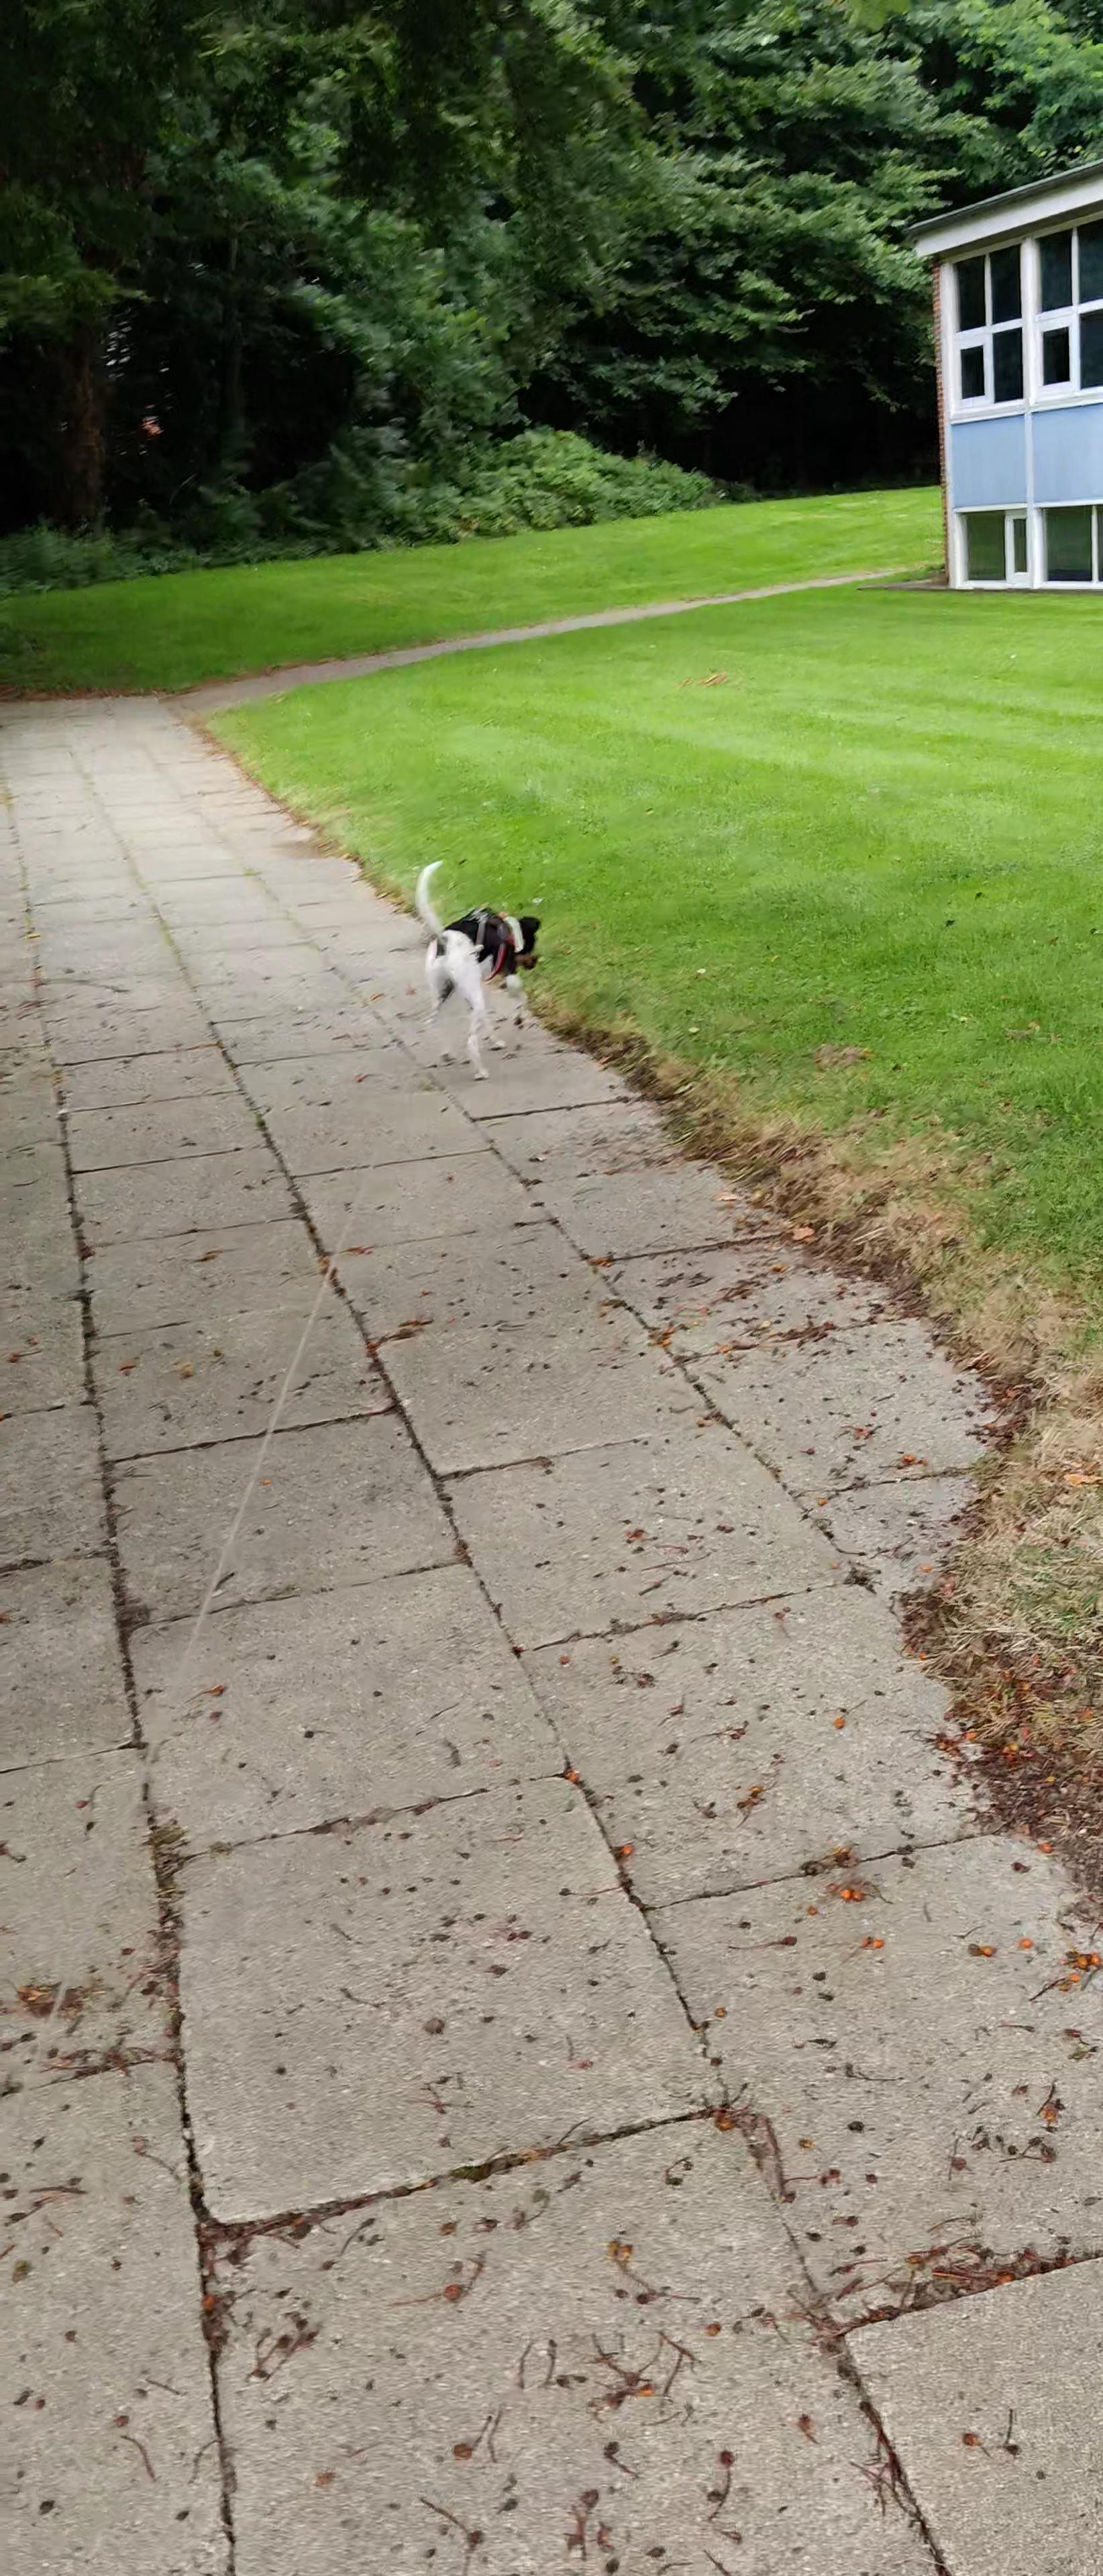Dog: (408, 851, 547, 1083)
